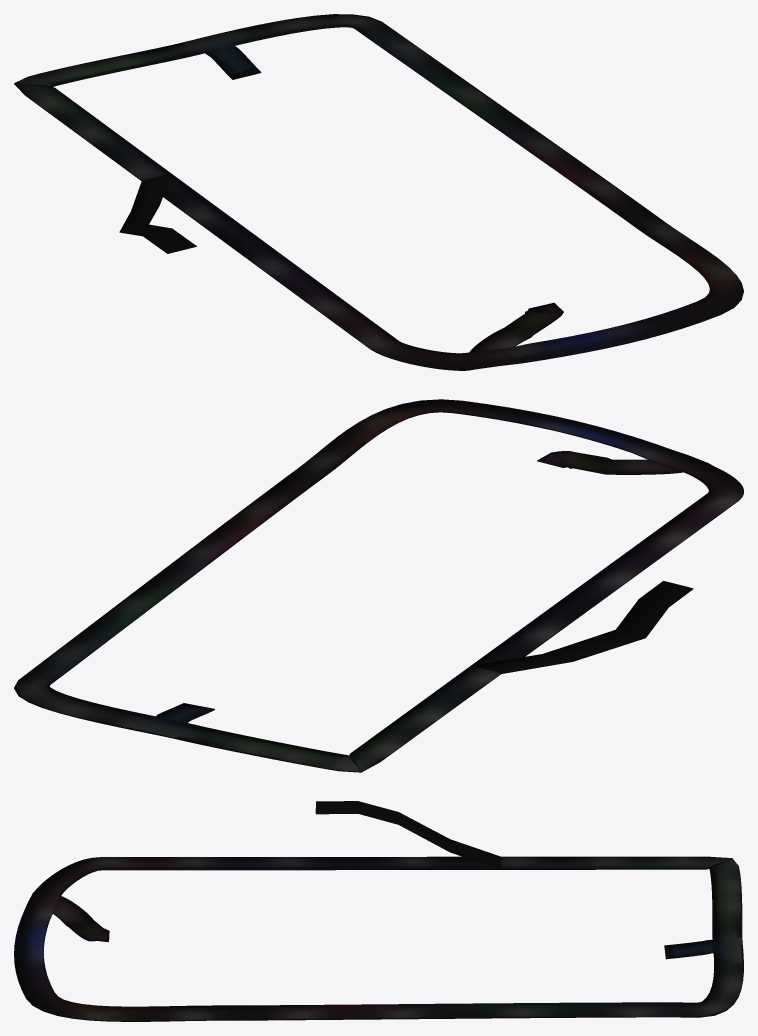
The model's file is Road-transformed.glb.
3 renders of one model, top to bottom at view 1: azimuth 30°, elevation 25°; view 2: azimuth 150°, elevation 25°; view 3: azimuth 270°, elevation 25°, orthographic. The views are drawn at different scales.
Parts seen in each view (by area): view 1: BezierCurve.001; view 2: BezierCurve.001; view 3: BezierCurve.001.
Boxes of the visible parts, x1,y1,x2,y2 form: BezierCurve.001: [14, 14, 743, 370]; BezierCurve.001: [14, 399, 743, 772]; BezierCurve.001: [14, 801, 743, 1021].
Size of the model in its own units: 3011 by 242 by 4882.
1 material, 1 textured.
